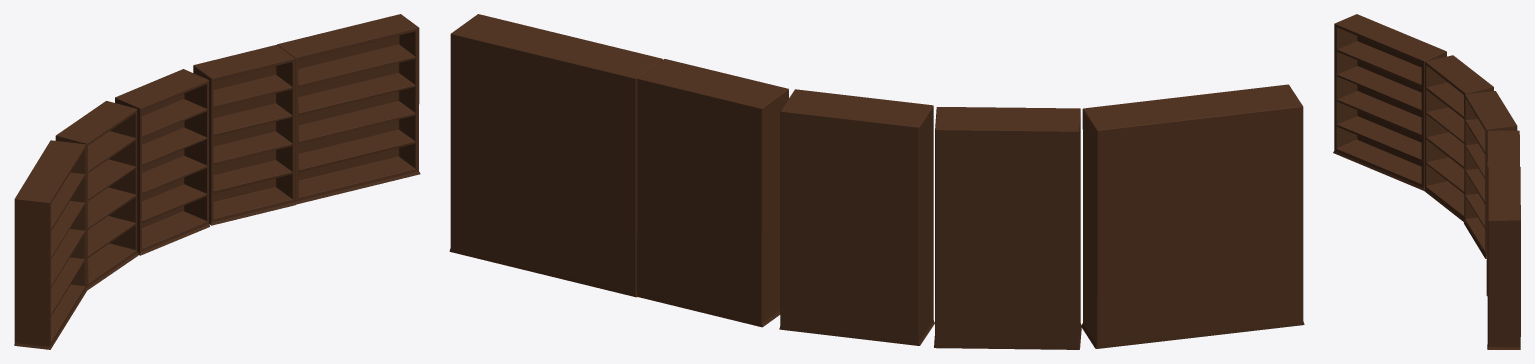
The model's file is bookcases.glb.
3 renders of one model, left to right at view 1: azimuth 30°, elevation 25°; view 2: azimuth 150°, elevation 25°; view 3: azimuth 270°, elevation 25°, orthographic. The views are drawn at different scales.
Parts seen in each view (by area): view 1: Cube.009, Cube.066, Cube.044, Cube.040, Cube.056; view 2: Cube.044, Cube.009, Cube.040, Cube.056, Cube.066; view 3: Cube.044, Cube.056, Cube.009, Cube.040, Cube.066.
Part boxes in pixels (x1=…): Cube.009: x1=277, y1=14, x2=420, y2=204; Cube.066: x1=193, y1=45, x2=295, y2=225; Cube.044: x1=14, y1=140, x2=87, y2=349; Cube.040: x1=115, y1=69, x2=209, y2=255; Cube.056: x1=55, y1=101, x2=138, y2=290; Cube.044: x1=1081, y1=84, x2=1304, y2=348; Cube.009: x1=449, y1=14, x2=662, y2=297; Cube.040: x1=779, y1=89, x2=934, y2=345; Cube.056: x1=934, y1=107, x2=1081, y2=349; Cube.066: x1=637, y1=59, x2=788, y2=327; Cube.044: x1=1333, y1=14, x2=1446, y2=190; Cube.056: x1=1424, y1=55, x2=1493, y2=221; Cube.009: x1=1487, y1=166, x2=1520, y2=349; Cube.040: x1=1464, y1=91, x2=1517, y2=258; Cube.066: x1=1486, y1=130, x2=1519, y2=296.
Size of the model in its own units: 7.45 by 2.18 by 2.86.
